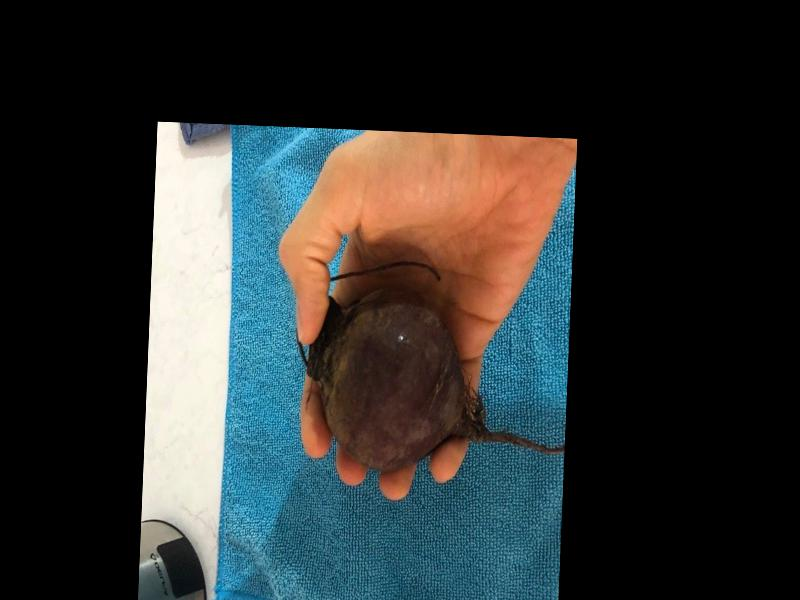Beet: (291, 258, 572, 479)
